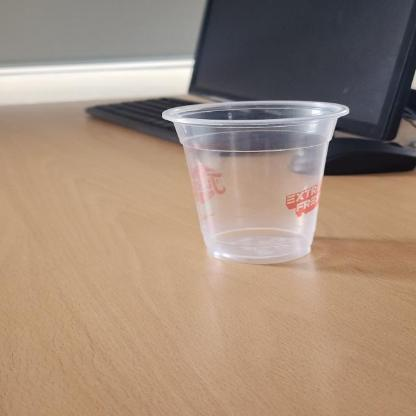Plastic Cup: (161, 98, 349, 264)
